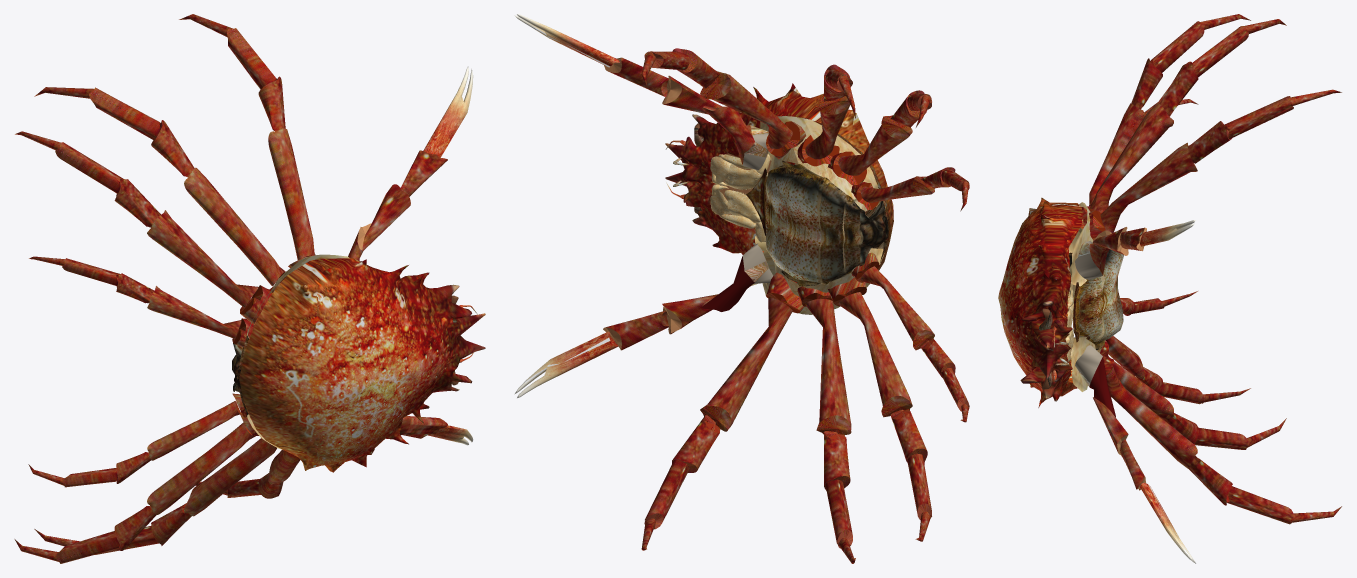
File: uploads_files_2361979_CRAB(2).obj
The picture shows the model from 3 angles, left to right: view 1: azimuth 30°, elevation 25°; view 2: azimuth 150°, elevation 25°; view 3: azimuth 270°, elevation 25°; orthographic projection. The views are drawn at different scales.
Visible parts, largest first — view 1: CRBmain, crable08, crable10, crable09, crable04, crable06, crable03, crable07, crable05, crable02, crable01; view 2: CRBMA02, CRBmain, crable02, crable03, crable01, crable04, crable06, crable09, crable05, crable08, crable10, crable07 (+4 smaller); view 3: CRBmain, crable09, crable02, crable10, crable08, CRBMA02, crable01, crable03, crable06, crable04, crabfle01, crable05 (+1 smaller).
Boxes of the visible parts, x1,y1,x2,y2 form: CRBmain: [239, 258, 485, 472]; crable08: [15, 131, 272, 324]; crable10: [34, 87, 285, 292]; crable09: [179, 14, 315, 267]; crable04: [14, 412, 263, 563]; crable06: [348, 66, 473, 260]; crable03: [34, 438, 276, 554]; crable07: [29, 256, 254, 348]; crable05: [28, 393, 246, 487]; crable02: [196, 450, 300, 498]; crable01: [399, 416, 473, 445]; CRBMA02: [746, 161, 888, 286]; CRBmain: [665, 83, 893, 282]; crable02: [641, 272, 804, 550]; crable03: [797, 282, 855, 563]; crable01: [514, 243, 772, 398]; crable04: [828, 277, 931, 541]; crable06: [514, 14, 768, 170]; crable09: [641, 48, 806, 159]; crable05: [851, 252, 969, 422]; crable08: [828, 90, 931, 185]; crable10: [797, 64, 855, 166]; crable07: [851, 167, 969, 211]; CRBmain: [998, 197, 1082, 407]; crable09: [1083, 89, 1341, 240]; crable02: [1101, 354, 1341, 524]; crable10: [1080, 19, 1286, 228]; crable08: [1081, 14, 1250, 229]; CRBMA02: [1069, 249, 1123, 349]; crable01: [1075, 345, 1195, 563]; crable03: [1100, 340, 1286, 449]; crable06: [1075, 220, 1195, 279]; crable04: [1105, 336, 1250, 404]; crabfle01: [1068, 202, 1093, 286]; crable05: [1120, 291, 1197, 315].
Bounding box in the file's own units: 29.36 × 29.84 × 21.81.
